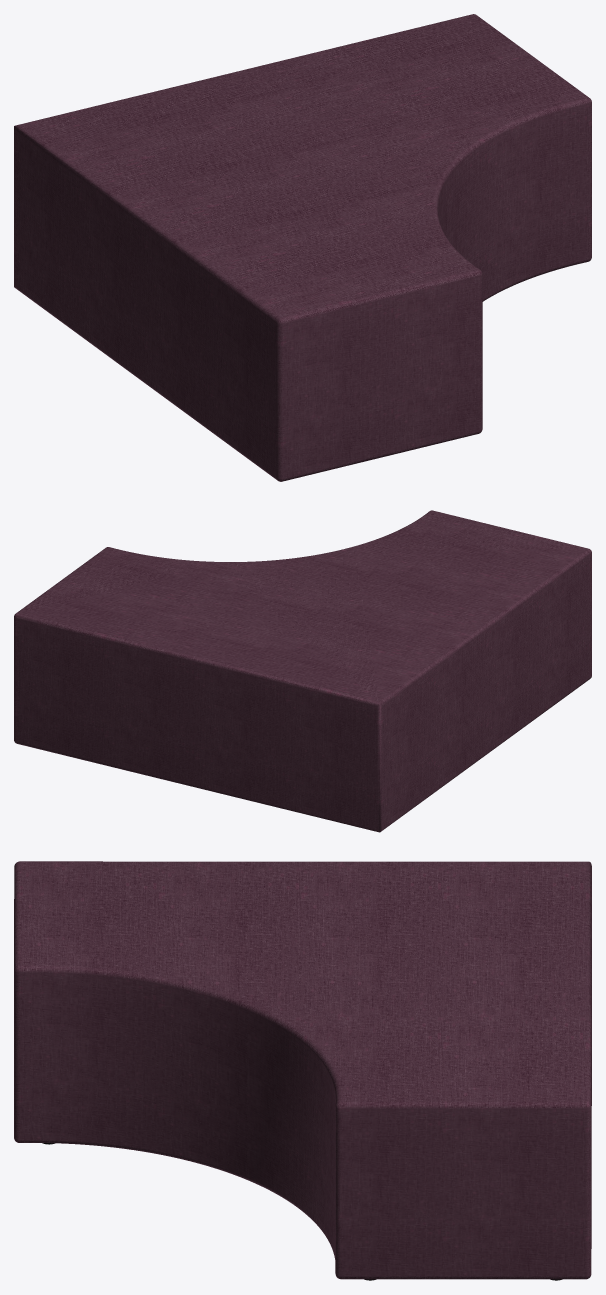
The model's file is Corner Ottoman.FBX.
The picture shows the model from 3 angles, top to bottom: view 1: azimuth 30°, elevation 25°; view 2: azimuth 150°, elevation 25°; view 3: azimuth 270°, elevation 25°; orthographic projection. The views are drawn at different scales.
Visible parts, largest first — view 1: Object019; view 2: Object019; view 3: Object019.
Part boxes in pixels (<box>): Object019: <box>14,14,591,481</box>; Object019: <box>14,510,591,832</box>; Object019: <box>14,861,591,1279</box>.
Size of the model in its own units: 1241 by 444 by 1241.
Materials: 2 (1 with a texture image).
